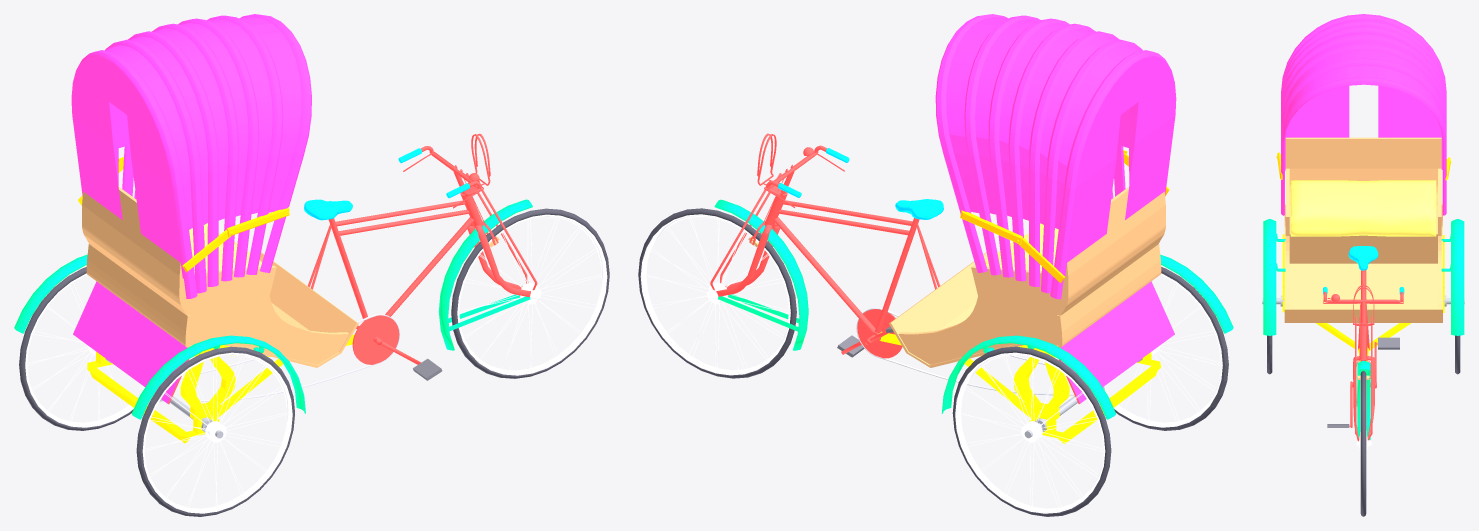
The model's file is rickshaw.glb.
3 views of the same model, side by side, from view 1: azimuth 30°, elevation 25°; view 2: azimuth 150°, elevation 25°; view 3: azimuth 270°, elevation 25° (orthographic). The views are drawn at different scales.
Parts seen in each view (by area): view 1: seat_Plane.003, wheel_back_right, wheel_front, break_Plane.018, wheel_back_left; view 2: seat_Plane.003, wheel_back_left, wheel_front, break_Plane.018, wheel_back_right; view 3: seat_Plane.003, break_Plane.018, wheel_front, left_paddle_Cube.002, wheel_back_left, wheel_back_right, paddle_handel_Cylinder.043.
Part boxes in pixels (x1,y1,x2,y2): seat_Plane.003: (14,14,474,443); wheel_back_right: (136,346,294,516); wheel_front: (451,208,609,378); break_Plane.018: (398,133,537,350); wheel_back_left: (19,267,139,430); seat_Plane.003: (773,14,1233,443); wheel_back_left: (952,346,1111,516); wheel_front: (638,208,796,378); break_Plane.018: (710,133,849,350); wheel_back_right: (1106,267,1228,430); seat_Plane.003: (1262,14,1464,361); break_Plane.018: (1323,284,1404,441); wheel_front: (1356,371,1371,516); left_paddle_Cube.002: (1378,337,1399,349); wheel_back_left: (1454,335,1460,374); wheel_back_right: (1266,335,1272,374); paddle_handel_Cylinder.043: (1349,342,1377,427).
Bounding box in the file's own units: 0.44 × 0.3396 × 0.1798.
